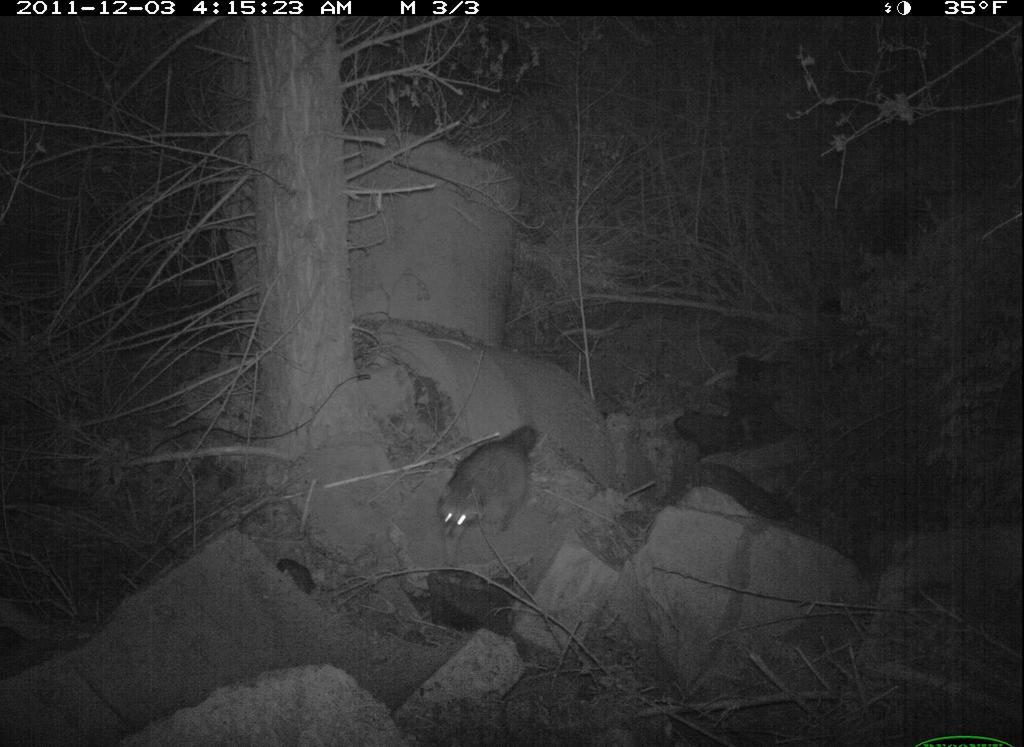raccoon: (422, 418, 547, 571)
